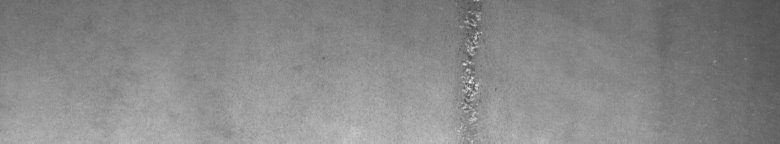hc: (448, 4, 488, 135)
